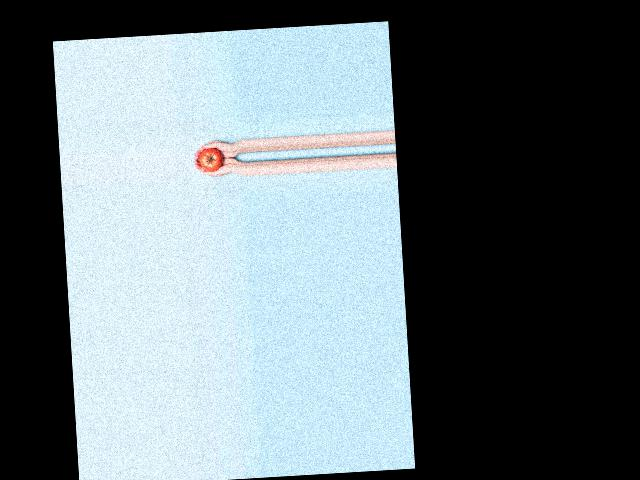tomato: (198, 147, 223, 171)
